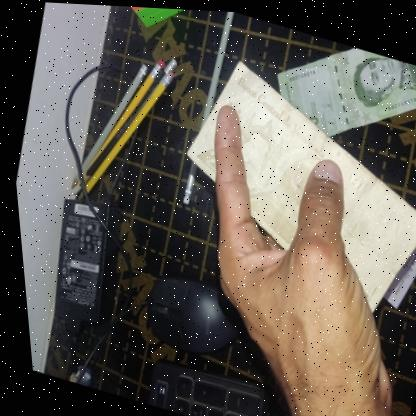fifty-front-vef: (260, 24, 416, 161)
five-back-vef: (151, 46, 416, 322)
